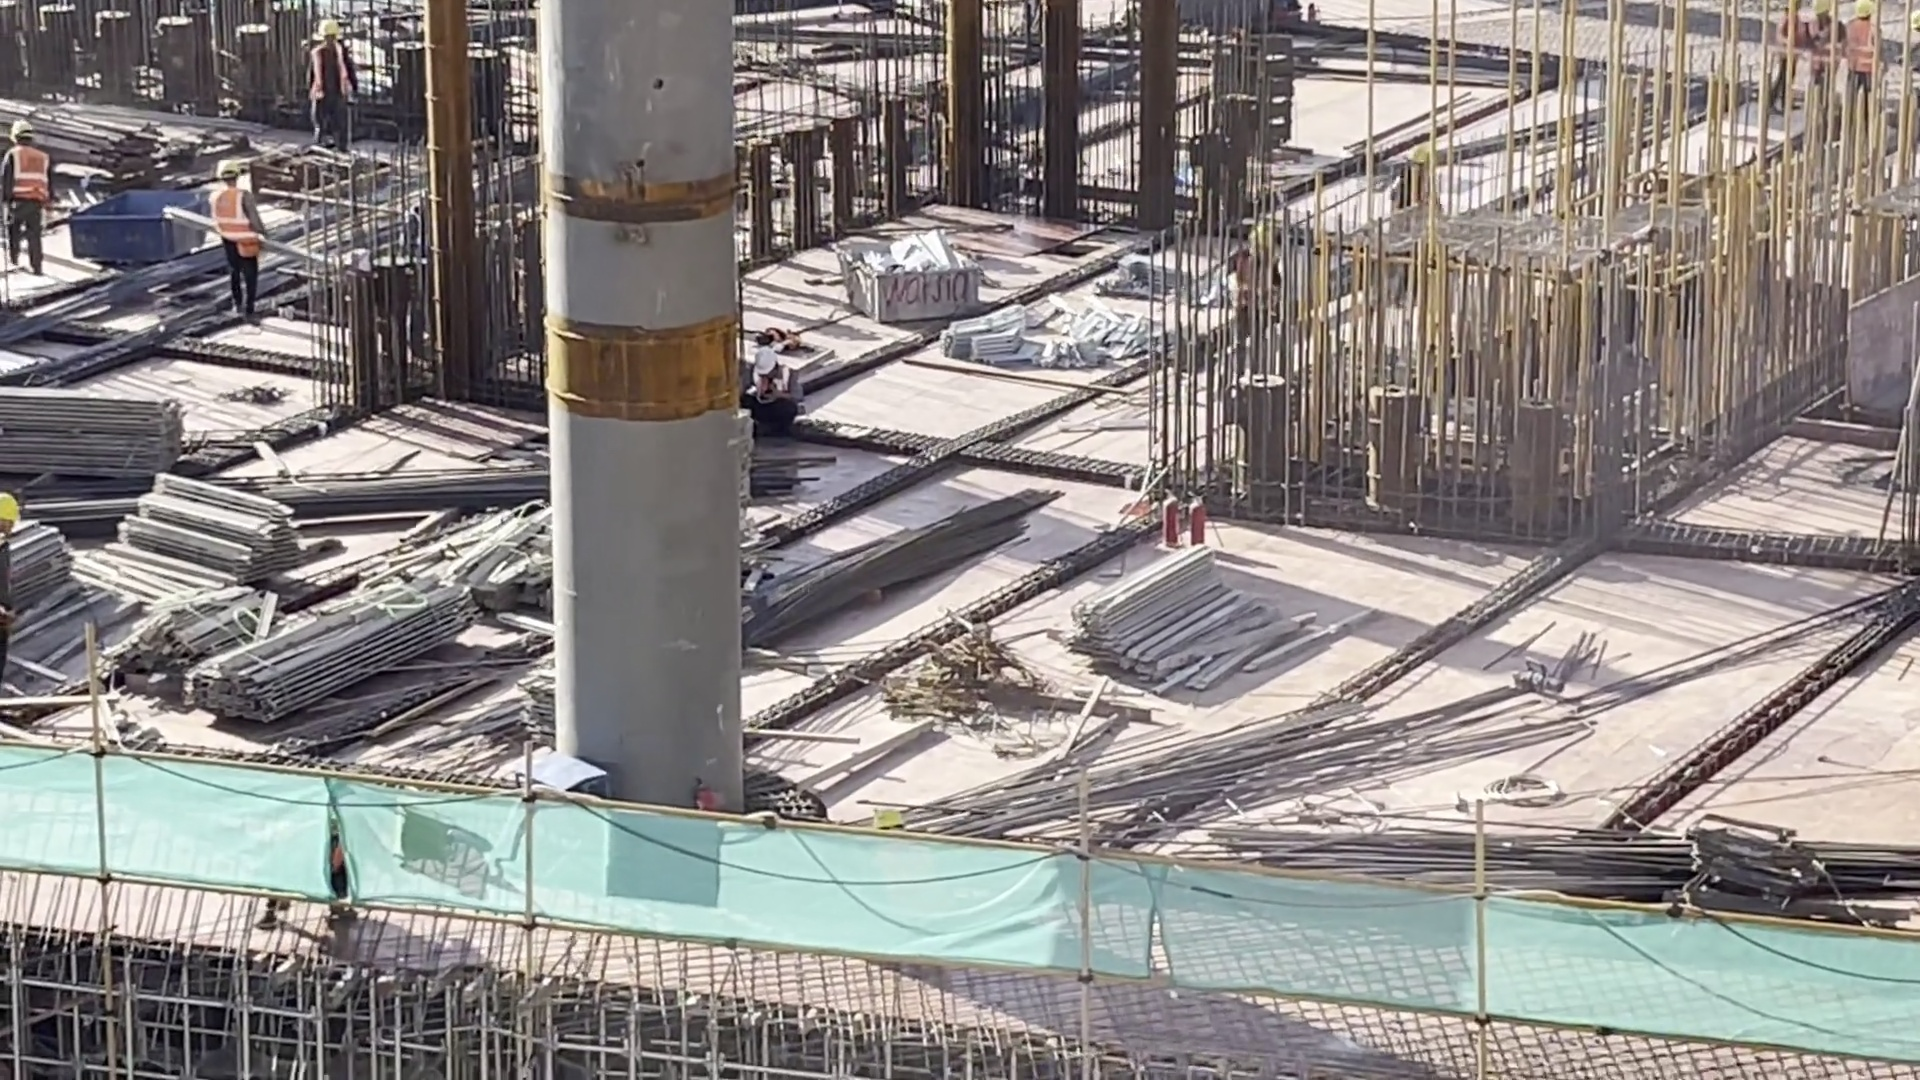helmet: (749, 338, 777, 380), (217, 152, 240, 194), (11, 112, 32, 141)
hopper: (830, 209, 988, 327), (77, 176, 218, 268)
person: (195, 152, 267, 316), (736, 332, 806, 453), (1836, 4, 1900, 127), (6, 115, 51, 245), (310, 20, 345, 141)
vest: (204, 189, 255, 261), (307, 41, 358, 101), (4, 141, 44, 208), (1848, 17, 1881, 78)
wood: (196, 574, 480, 730), (1067, 538, 1278, 690), (125, 461, 301, 594), (1, 371, 177, 495)
